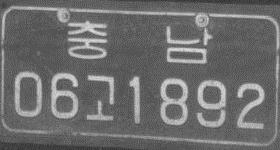0: (12, 70, 43, 118)
1: (120, 75, 150, 123)
2: (236, 82, 264, 130)
6: (50, 72, 79, 119)
8: (159, 77, 188, 125)
9: (196, 79, 227, 128)
고: (85, 74, 115, 122)
충남_D: (66, 19, 212, 64)
